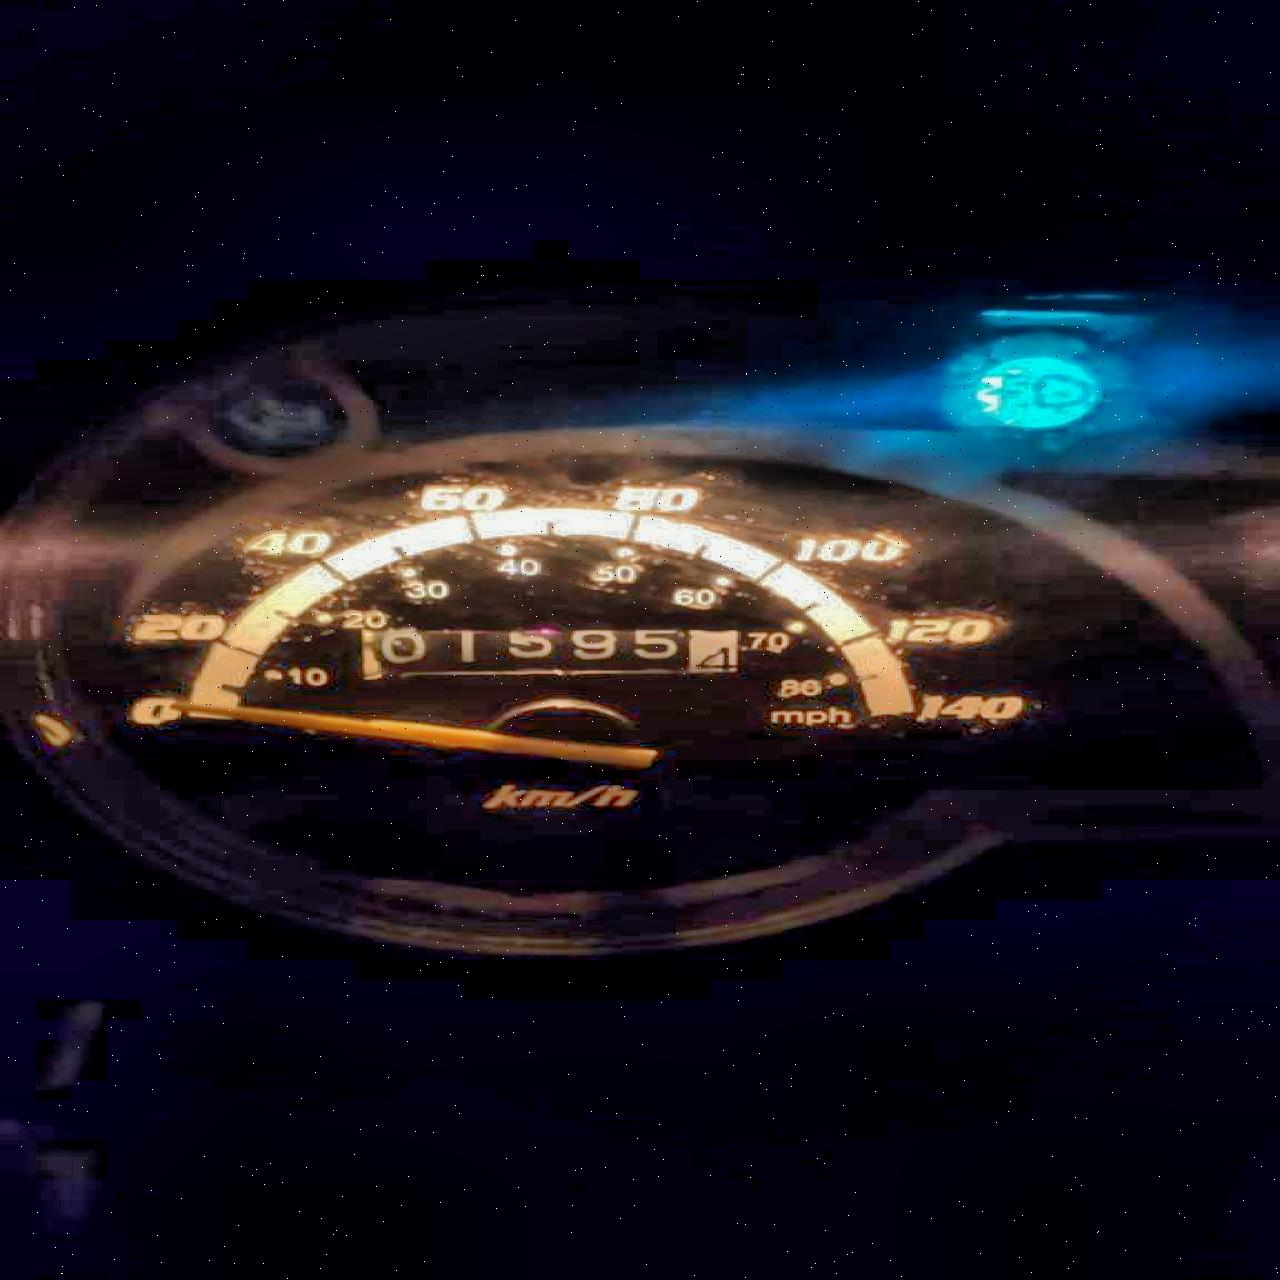0: (375, 628, 427, 663)
1: (451, 626, 481, 667)
4: (692, 641, 736, 675)
5: (629, 626, 678, 665), (503, 626, 553, 660)
9: (564, 627, 620, 661)
odometer: (342, 624, 747, 686)
